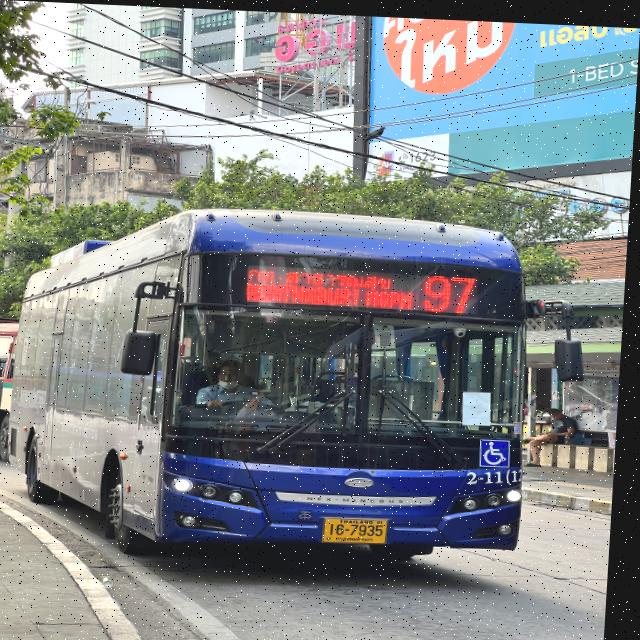BMTA-bus: (0, 318, 27, 464)
Bus-Line-Number: (420, 265, 485, 310)
Destination-Sign-Normal: (240, 259, 421, 310)
TSB-Bus: (2, 199, 542, 564)
